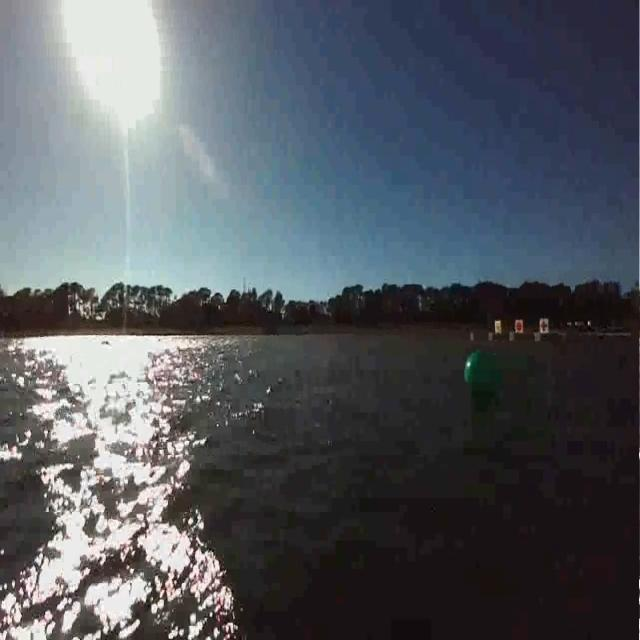green-buoy: (463, 348, 503, 409)
